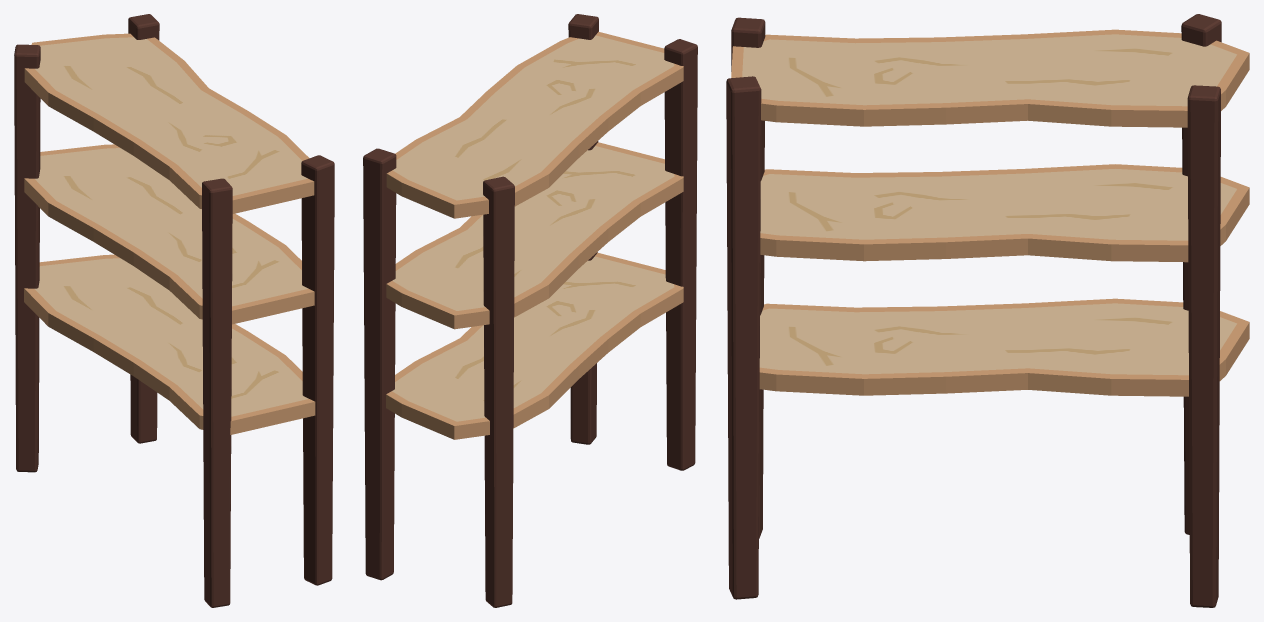
The model's file is Shelf.glb.
The picture shows the model from 3 angles, left to right: view 1: azimuth 30°, elevation 25°; view 2: azimuth 150°, elevation 25°; view 3: azimuth 270°, elevation 25°; orthographic projection. The views are drawn at different scales.
Visible parts, largest first — view 1: Cube; view 2: Cube; view 3: Cube.
Boxes of the visible parts, x1,y1,x2,y2 form: Cube: [14, 14, 334, 607]; Cube: [363, 14, 697, 607]; Cube: [726, 14, 1249, 607].
Bounding box in the file's own units: 0.4442 × 1.24 × 1.15.
2 materials, 1 textured.
